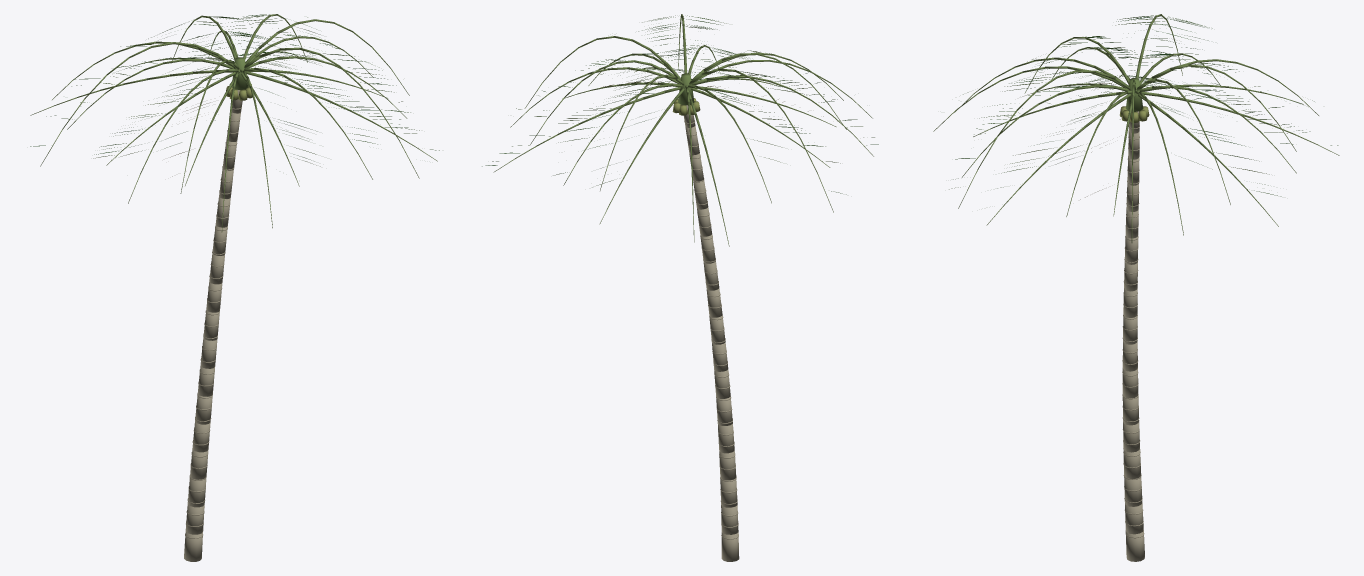
Rendered from coconut_palm.glb.
3 renders of one model, left to right at view 1: azimuth 30°, elevation 25°; view 2: azimuth 150°, elevation 25°; view 3: azimuth 270°, elevation 25°, orthographic. The views are drawn at different scales.
Parts seen in each view (by area): view 1: coconut_palm; view 2: coconut_palm; view 3: coconut_palm.
Boxes of the visible parts, x1,y1,x2,y2 form: coconut_palm: (30, 14, 439, 561); coconut_palm: (482, 14, 878, 561); coconut_palm: (933, 14, 1339, 561).
Size of the model in its own units: 9.17 by 12.41 by 9.19.
